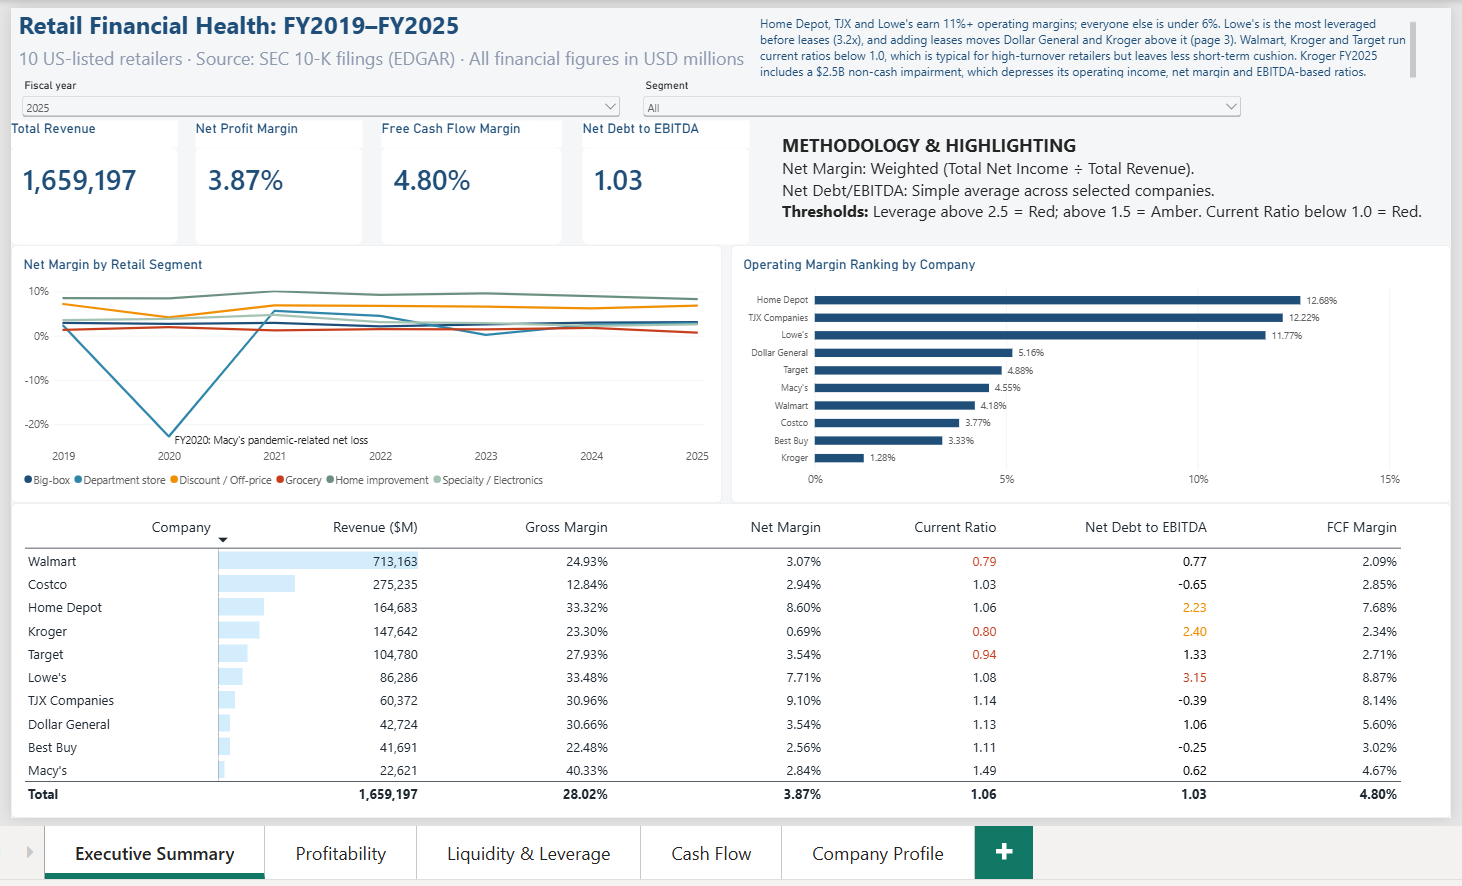

The dashboard page shown, as its layout file describes it:
{"tool":"powerbi","page":{"name":"Executive Summary","canvas":[1920,1080],"ordinal":0},"visuals":[{"type":"textbox","box":[9.1,0,665.9,50],"z":0},{"type":"textbox","box":[9.1,50,975,43.2],"z":1000},{"type":"slicer","fields":{"Values":["analytics v_ratios.fiscal_year"]},"box":[9.1,93.2,806.8,72.7],"z":2000},{"type":"slicer","fields":{"Values":["analytics companies.segment"]},"box":[838.6,93.2,806.8,72.7],"z":3000},{"type":"cardVisual","title":"Total Revenue","fields":{"Data":["analytics v_ratios.Revenue Card Display"]},"box":[0,150,222.7,165.9],"z":4000},{"type":"cardVisual","title":"Net Profit Margin","fields":{"Data":["analytics v_ratios.Net Margin"]},"box":[245.5,150,222.7,165.9],"z":5000},{"type":"cardVisual","title":"Free Cash Flow Margin","fields":{"Data":["analytics v_ratios.FCF Margin"]},"box":[493.2,150,240.9,165.9],"z":6000},{"type":"cardVisual","title":"Net Debt to EBITDA","fields":{"Data":["analytics v_ratios.Net Debt to EBITDA"]},"box":[761.4,150,222.7,165.9],"z":7000},{"type":"lineChart","title":"Net Margin by Retail Segment","fields":{"Category":["analytics v_ratios.fiscal_year"],"Series":["analytics companies.segment"],"Y":["analytics v_ratios.Net Margin"]},"box":[0,316,948,344],"z":8000},{"type":"clusteredBarChart","title":"Operating Margin Ranking by Company","fields":{"Category":["analytics companies.company_name"],"Y":["analytics v_ratios.Operating Margin"]},"box":[960,316,960,344],"z":9000},{"type":"tableEx","fields":{"Values":["analytics companies.company_name","analytics v_ratios.Revenue ($M)","analytics v_ratios.Gross Margin","analytics v_ratios.Net Margin","analytics v_ratios.Current Ratio","analytics v_ratios.Net Debt to EBITDA","analytics v_ratios.FCF Margin"]},"box":[0,660,1920,420],"z":10000},{"type":"textbox","box":[1027.3,165.9,893.2,134.1],"z":11000},{"type":"textbox","box":[218.2,565.9,275,25],"z":12000},{"type":"textbox","box":[997.7,13.6,875,79.5],"z":13000}]}

Visuals, with their boxes on the page's 1920x1080 design canvas (x1, y1, x2, y2). These are canvas units, not pixel positions in the 1462x886 screenshot, which may show the page scaled, cropped or inside an application window:
textbox: x1=9, y1=0, x2=675, y2=50
textbox: x1=9, y1=50, x2=984, y2=93
slicer - analytics v_ratios.fiscal_year: x1=9, y1=93, x2=816, y2=166
slicer - analytics companies.segment: x1=839, y1=93, x2=1645, y2=166
"Total Revenue" cardVisual: x1=0, y1=150, x2=223, y2=316
"Net Profit Margin" cardVisual: x1=246, y1=150, x2=468, y2=316
"Free Cash Flow Margin" cardVisual: x1=493, y1=150, x2=734, y2=316
"Net Debt to EBITDA" cardVisual: x1=761, y1=150, x2=984, y2=316
"Net Margin by Retail Segment" lineChart: x1=0, y1=316, x2=948, y2=660
"Operating Margin Ranking by Company" clusteredBarChart: x1=960, y1=316, x2=1920, y2=660
tableEx - analytics companies.company_name x analytics v_ratios.Revenue ($M): x1=0, y1=660, x2=1920, y2=1080
textbox: x1=1027, y1=166, x2=1920, y2=300
textbox: x1=218, y1=566, x2=493, y2=591
textbox: x1=998, y1=14, x2=1873, y2=93
